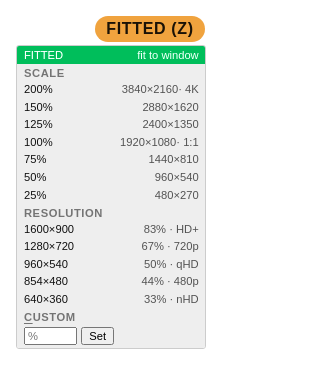
Test: SizeMode keyboard menu › Enter on a focused row applies that zoom and closes
Expected: the menu with class "menu" is shown, [16,45,206,349]
Press ArrowDown
Click the menu item "200% 3840×2160· 4K" at coordinates (111, 89), box [17,80,206,98]
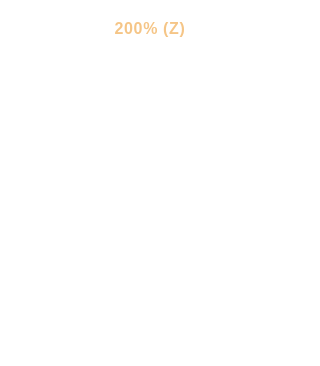
Expected: the menu with class "menu" is gone
